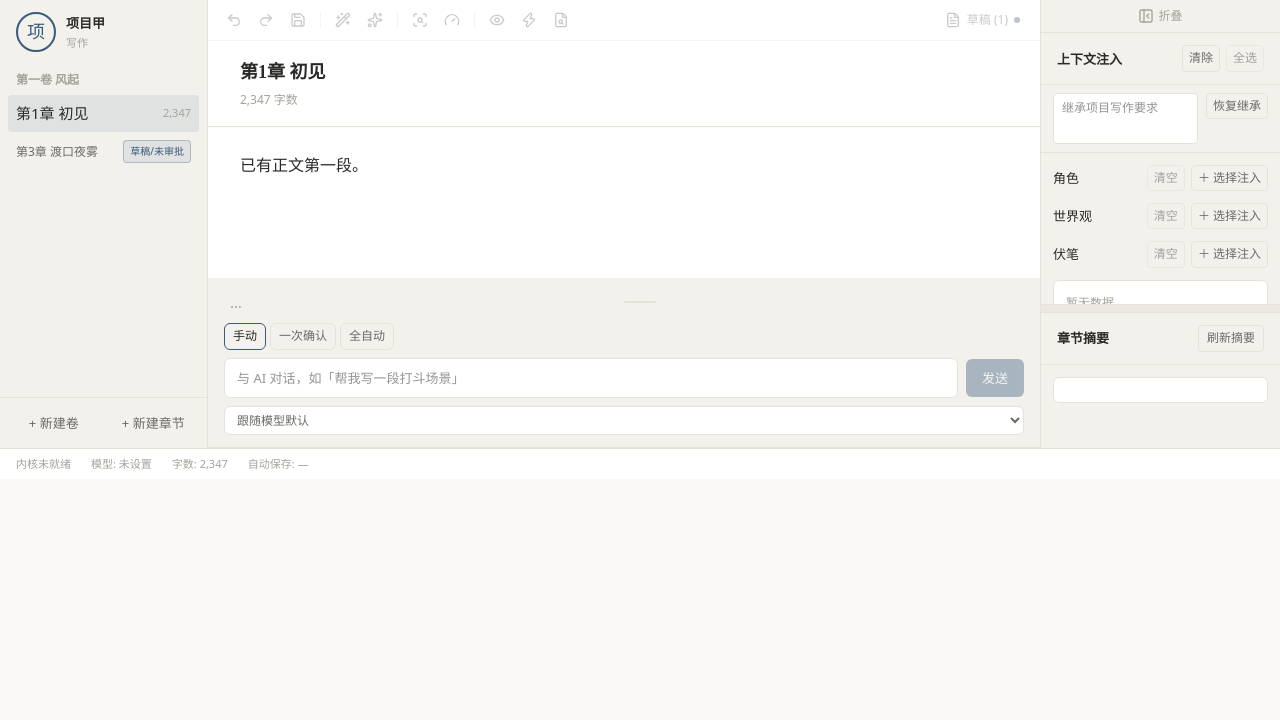
Test: 写作页 — #1377 草稿驳回链路（页面级） › 【R】驳回失败 → 框内 drafts-drawer-error 透传且不关框
Click the button with test id "drafts-approval-button".
click(982, 20)  # box top-left (937, 6), bottom-right (1028, 34)
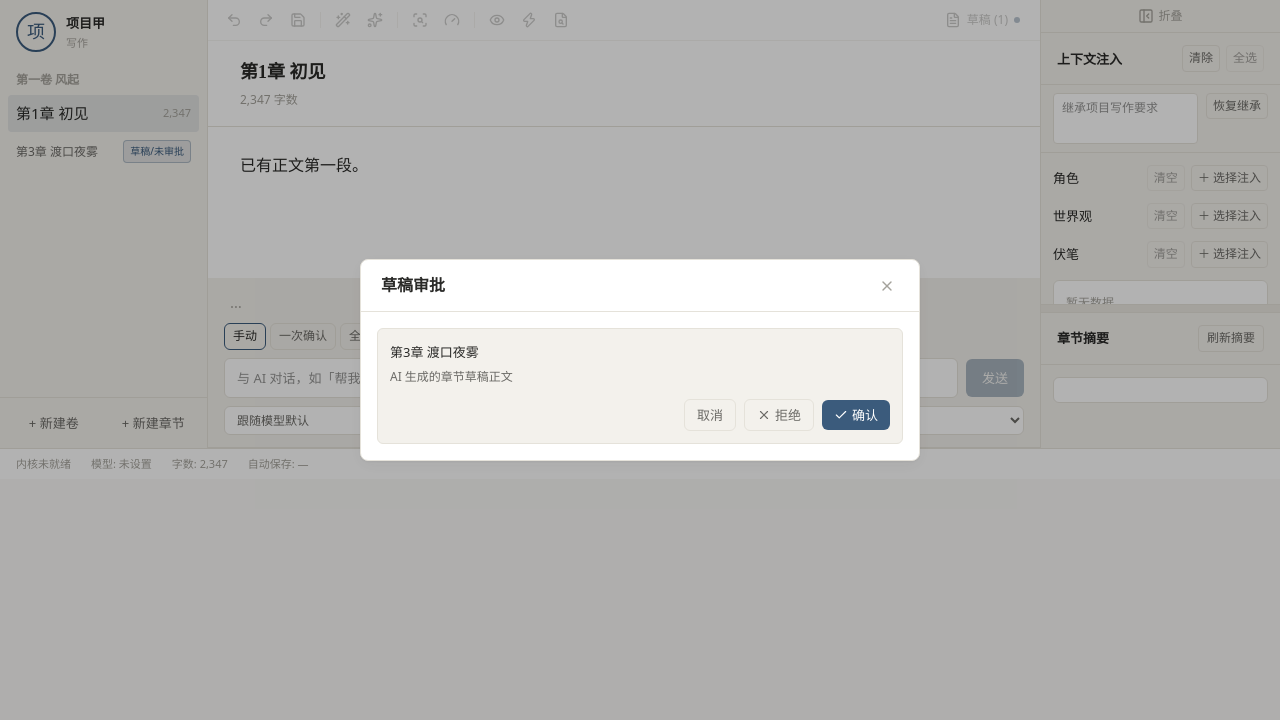
Click the button with test id "drafts-drawer-reject-d1".
click(779, 415)  # box top-left (744, 399), bottom-right (814, 431)
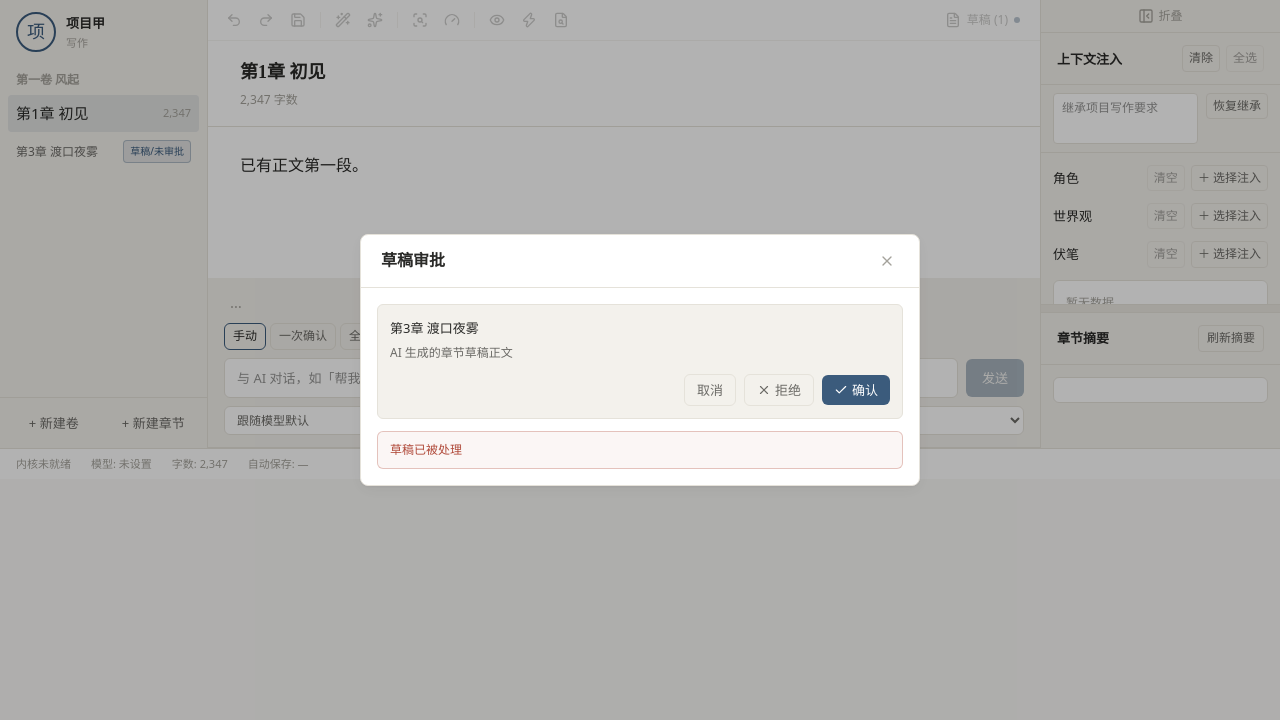
Now the dialog with test id "drafts-drawer" is shown, box top-left (360, 234), bottom-right (920, 486)
Now the text with test id "drafts-drawer-error" reads "草稿已被处理", box top-left (390, 441), bottom-right (462, 458)
